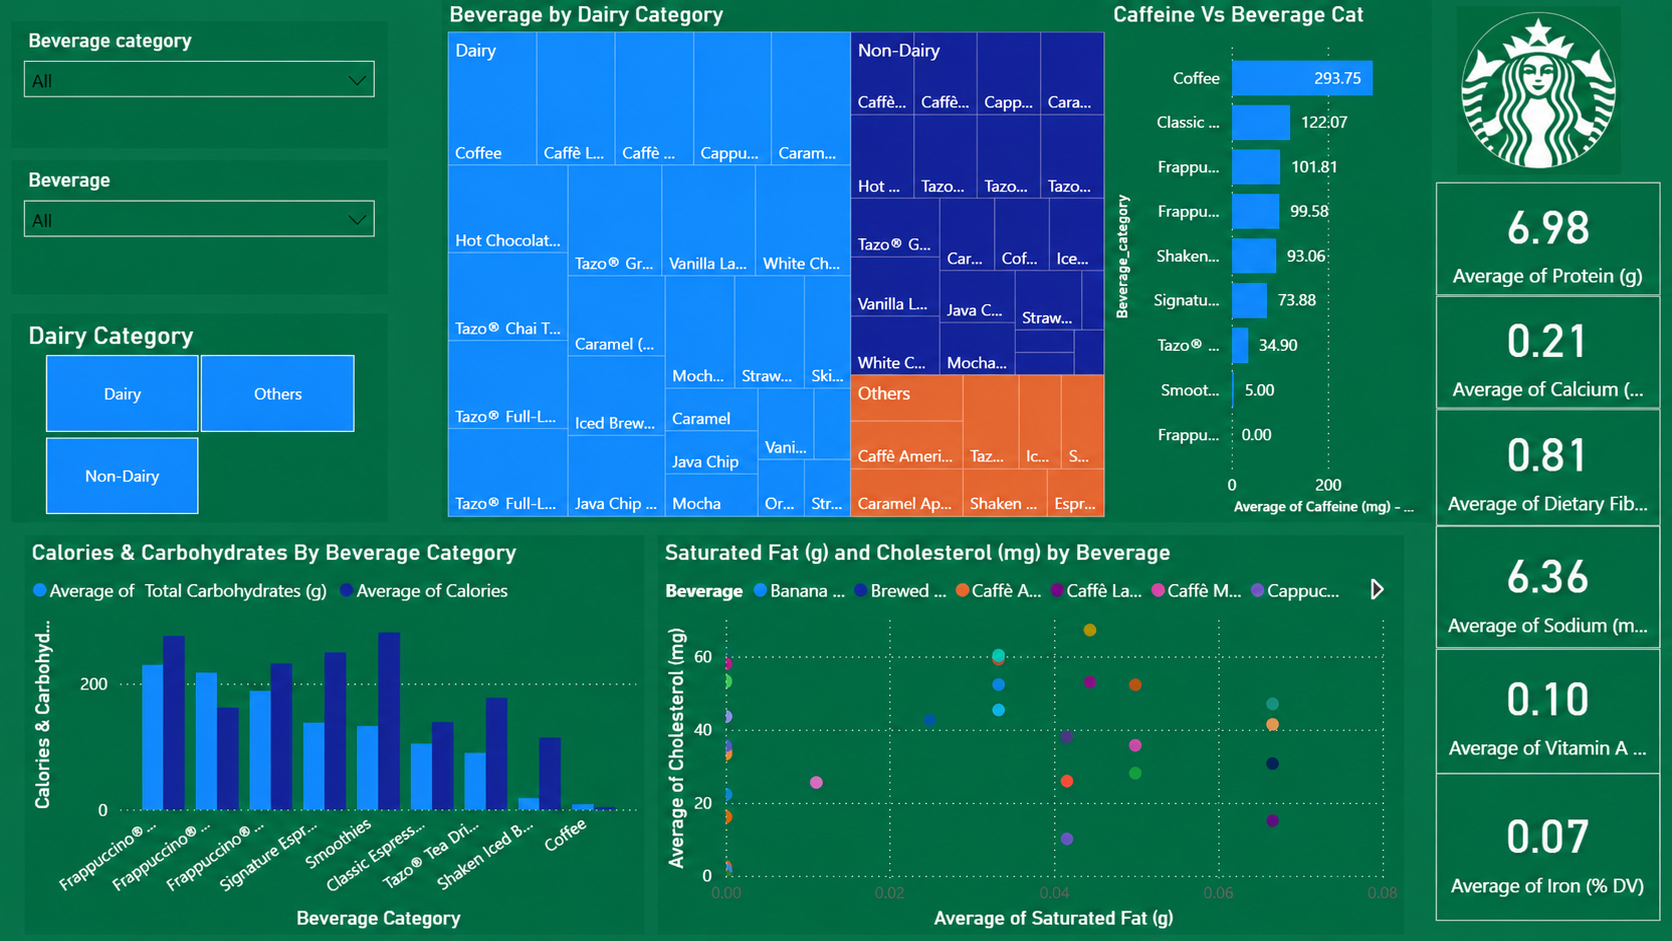

The dashboard page shown, as its layout file describes it:
{"tool":"powerbi","page":{"name":"Page 1","canvas":[1280,720],"ordinal":0},"visuals":[{"type":"slicer","fields":{"Values":["Table 1 (starbucks).Beverage_category"]},"box":[9.7,16.9,279.9,94.1],"z":0},{"type":"slicer","fields":{"Values":["Table 1 (starbucks).Beverage"]},"box":[9.7,121.9,279.9,98.9],"z":1000},{"type":"slicer","fields":{"Values":["DimMilk.DairyCategory"]},"box":[9.7,235.3,279.9,155.6],"z":2000},{"type":"barChart","title":"Caffeine Vs Beverage Cat ","fields":{"Category":["Table 1 (starbucks).Beverage_category"],"Y":["Avg(Table 1 (starbucks).Caffeine (mg) - Copy)"]},"box":[802.3,0,246.1,390.9],"z":3000},{"type":"clusteredColumnChart","title":"Calories & Carbohydrates By Beverage Category","fields":{"Category":["Dim_Beverage_Category.Beverage_category"],"Y":["Avg(Table 1 (starbucks). Total Carbohydrates (g) )","Avg(Table 1 (starbucks).Calories)"]},"box":[20.5,400.5,462.1,295.6],"z":4000},{"type":"treemap","title":"Beverage by Dairy Category ","fields":{"Group":["DimMilk.DairyCategory"],"Details":["Dim_Beverage.Beverage"],"Values":["CountNonNull(Table 1 (starbucks).Beverage)"]},"box":[330.6,0,498.3,390.9],"z":5000},{"type":"scatterChart","title":" Saturated Fat (g) and Cholesterol (mg) by Beverage","fields":{"Series":["Dim_Beverage.Beverage"],"X":["Avg(Table 1 (starbucks).Saturated Fat (g))"],"Y":["Avg(Table 1 (starbucks).Cholesterol (mg))"]},"box":[493.4,400.5,555,295.6],"z":6000},{"type":"card","title":"Protein","fields":{"Values":["Avg(Table 1 (starbucks). Protein (g) )"]},"box":[1072.5,136.3,182.2,84.5],"z":7000},{"type":"card","fields":{"Values":["Avg(Table 1 (starbucks).Vitamin A (% DV) )"]},"box":[1074.9,483.8,182.2,91.7],"z":8000},{"type":"card","title":"Calcium (%DV)","fields":{"Values":["Avg(Table 1 (starbucks). Calcium (% DV) )"]},"box":[1072.5,220.8,182.2,82],"z":9000},{"type":"card","fields":{"Values":["Avg(Table 1 (starbucks). Dietary Fibre (g))"]},"box":[1073.7,302.8,182.2,88.1],"z":10000},{"type":"card","fields":{"Values":["Avg(Table 1 (starbucks). Sodium (mg))"]},"box":[1074.9,390.9,182.2,92.9],"z":11000},{"type":"image","box":[1027.9,0,252.1,136.3],"z":12000},{"type":"card","fields":{"Values":["Avg(Table 1 (starbucks).Iron (% DV) )"]},"box":[1074.9,575.5,182.2,111],"z":13000}]}

Visuals, with their boxes in screenshot pixels (x1, y1, x2, y2), scaled from the page's 1280x720 canvas onto the 1672x941 screenshot:
slicer - Table 1 (starbucks).Beverage_category: region(13, 22, 378, 145)
slicer - Table 1 (starbucks).Beverage: region(13, 159, 378, 289)
slicer - DimMilk.DairyCategory: region(13, 308, 378, 511)
"Caffeine Vs Beverage Cat " barChart: region(1048, 0, 1369, 511)
"Calories & Carbohydrates By Beverage Category" clusteredColumnChart: region(27, 523, 630, 910)
"Beverage by Dairy Category " treemap: region(432, 0, 1083, 511)
" Saturated Fat (g) and Cholesterol (mg) by Beverage" scatterChart: region(645, 523, 1369, 910)
"Protein" card: region(1401, 178, 1639, 289)
card - Avg(Table 1 (starbucks).Vitamin A (% DV) ): region(1404, 632, 1642, 752)
"Calcium (%DV)" card: region(1401, 289, 1639, 396)
card - Avg(Table 1 (starbucks). Dietary Fibre (g)): region(1403, 396, 1641, 511)
card - Avg(Table 1 (starbucks). Sodium (mg)): region(1404, 511, 1642, 632)
image: region(1343, 0, 1671, 178)
card - Avg(Table 1 (starbucks).Iron (% DV) ): region(1404, 752, 1642, 897)
